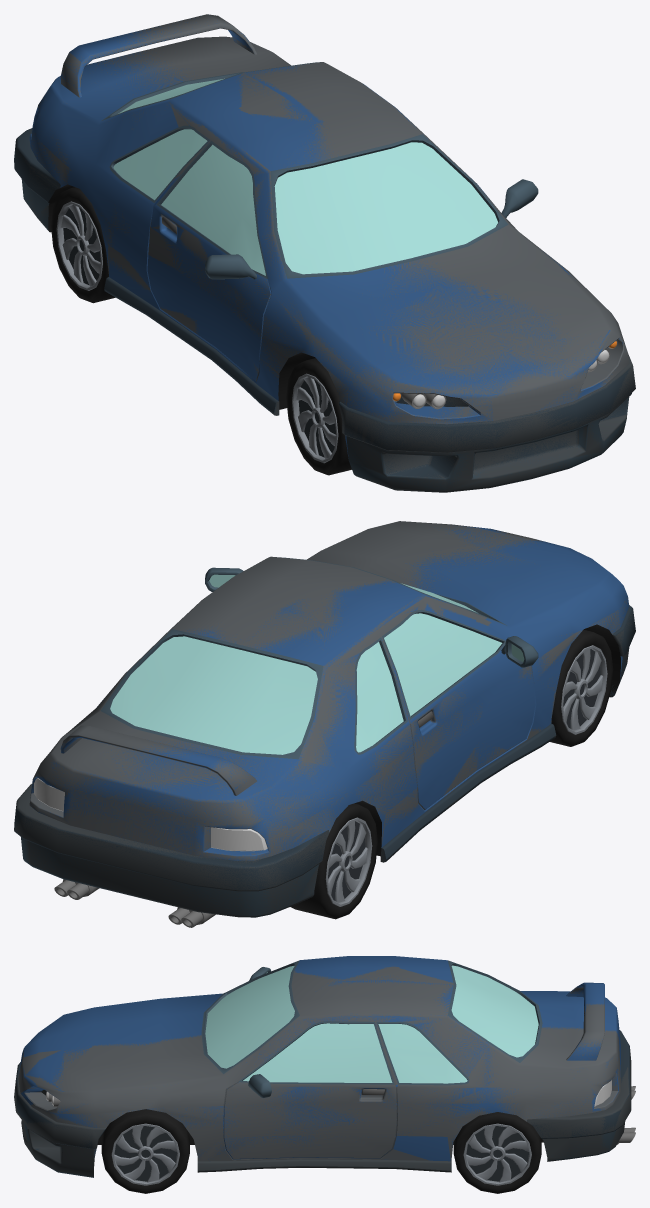
The model's file is SM_Vehicles_10_V1.fbx.
3 views of the same model, one above another, from view 1: azimuth 30°, elevation 25°; view 2: azimuth 150°, elevation 25°; view 3: azimuth 270°, elevation 25° (orthographic). The views are drawn at different scales.
Visible parts, largest first — view 1: SM_Vehicles_10_V2, SM_Vehicles_10_V1, SM_Vehicles_10_FR, SM_Vehicles_10_RR; view 2: SM_Vehicles_10_V2, SM_Vehicles_10_V1, SM_Vehicles_10_RR, SM_Vehicles_10_FR; view 3: SM_Vehicles_10_V1, SM_Vehicles_10_V2, SM_Vehicles_10_FL, SM_Vehicles_10_RL.
Boxes of the visible parts, <box> form: SM_Vehicles_10_V2: <box>14,15,635,491</box>; SM_Vehicles_10_V1: <box>14,14,635,492</box>; SM_Vehicles_10_FR: <box>286,358,351,475</box>; SM_Vehicles_10_RR: <box>51,187,115,303</box>; SM_Vehicles_10_V2: <box>14,526,635,927</box>; SM_Vehicles_10_V1: <box>14,521,635,927</box>; SM_Vehicles_10_RR: <box>290,803,377,919</box>; SM_Vehicles_10_FR: <box>550,629,613,746</box>; SM_Vehicles_10_V1: <box>14,964,635,1176</box>; SM_Vehicles_10_V2: <box>16,956,635,1177</box>; SM_Vehicles_10_FL: <box>101,1109,189,1193</box>; SM_Vehicles_10_RL: <box>453,1112,541,1193</box>.
Bounding box in the file's own units: 1.85 × 1.18 × 4.02.
